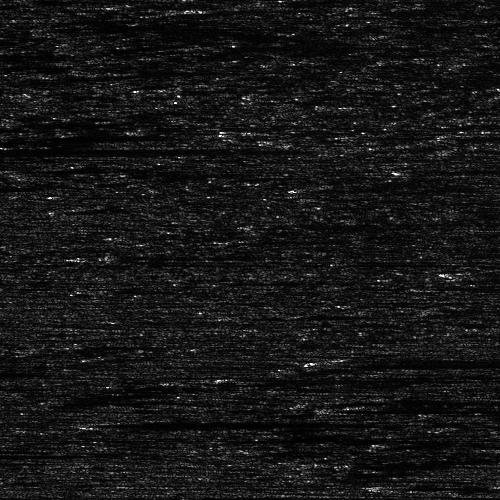rock: (293, 353, 366, 368), (293, 403, 366, 414), (38, 392, 91, 405), (369, 480, 442, 489), (418, 131, 481, 140), (65, 421, 106, 426), (206, 376, 247, 381), (439, 270, 480, 275), (488, 317, 500, 328), (406, 284, 437, 287)
shadow: (330, 353, 500, 368), (0, 144, 226, 155), (330, 403, 500, 414), (65, 392, 194, 405), (86, 421, 346, 426), (0, 450, 131, 459), (227, 376, 431, 381), (406, 480, 500, 489), (450, 131, 500, 140), (0, 30, 30, 41), (422, 284, 494, 287), (460, 270, 500, 275)
